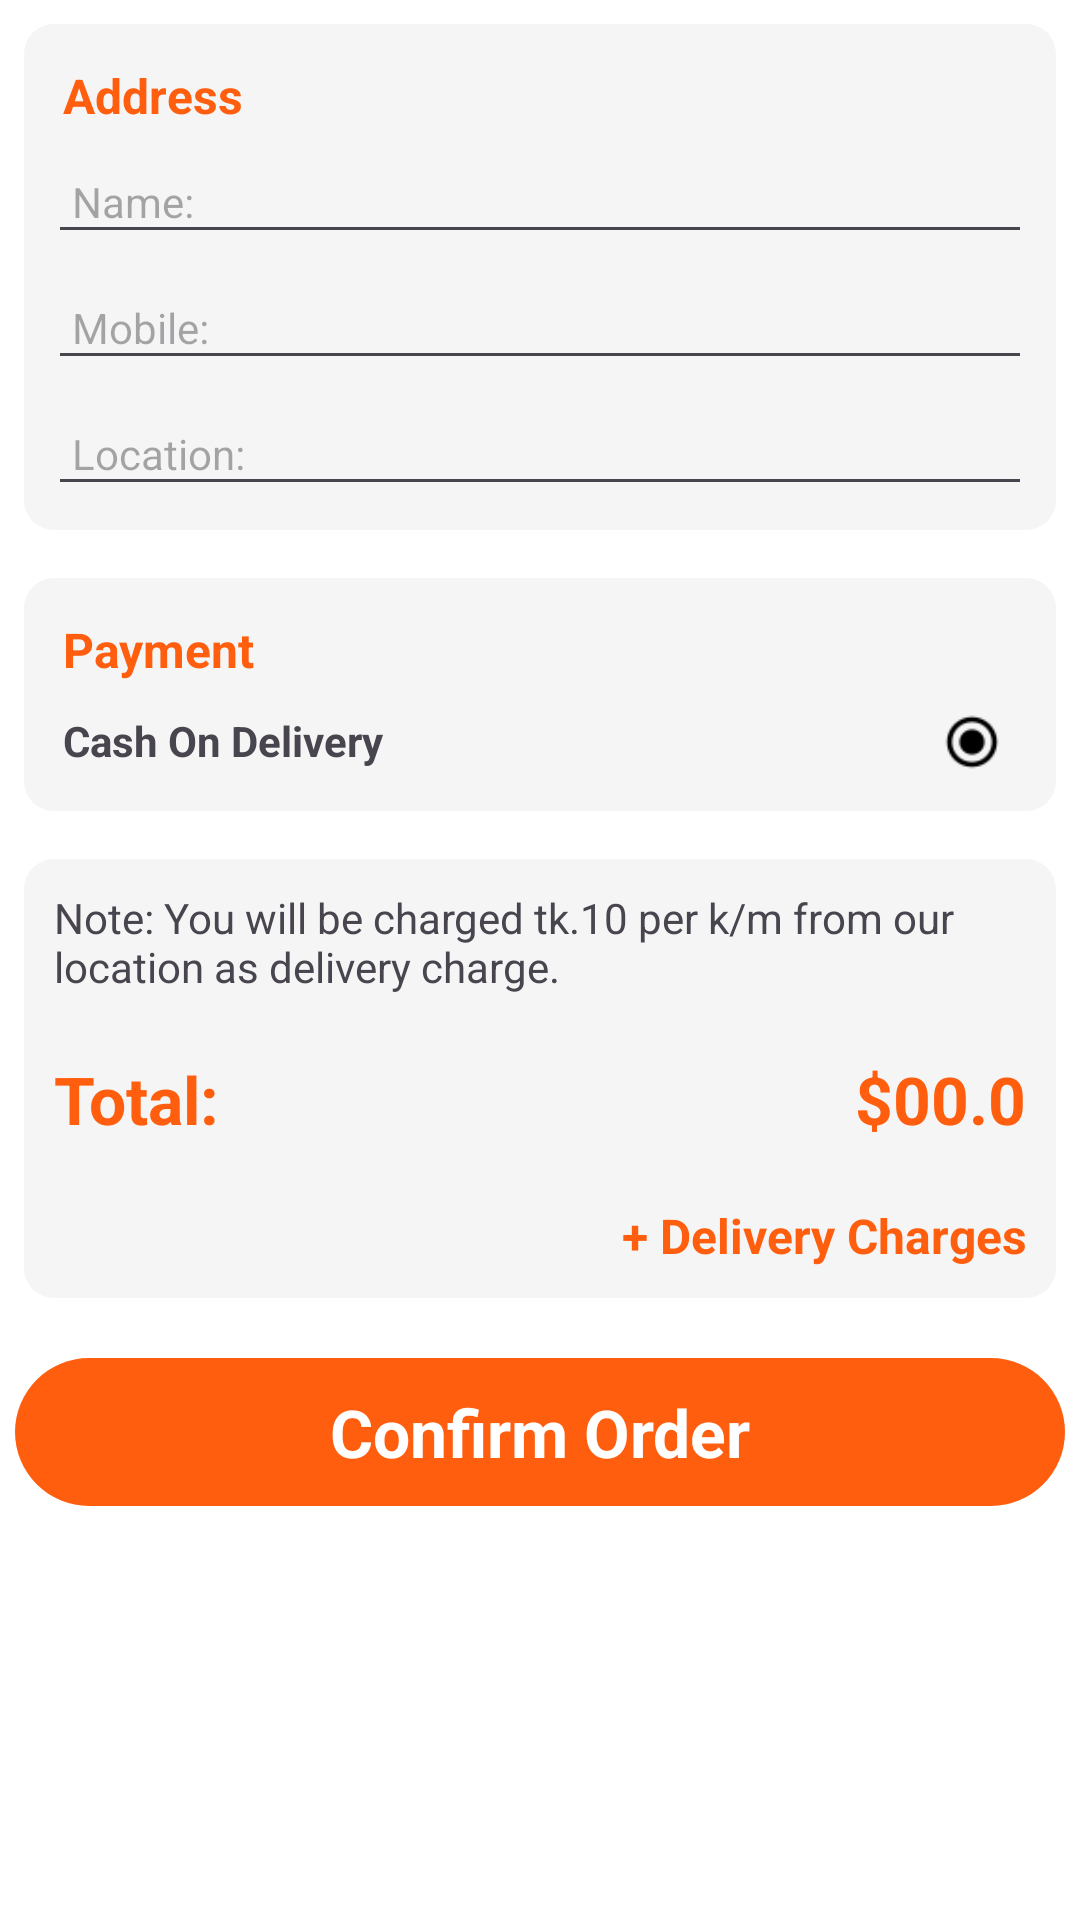

Named icons in this screenshot (1080px x 1920px) and their bounding boxes, {"left": x1, "top": y1, "right": x2, "bottom": y2}:
radio: {"left": 945, "top": 715, "right": 999, "bottom": 769}
